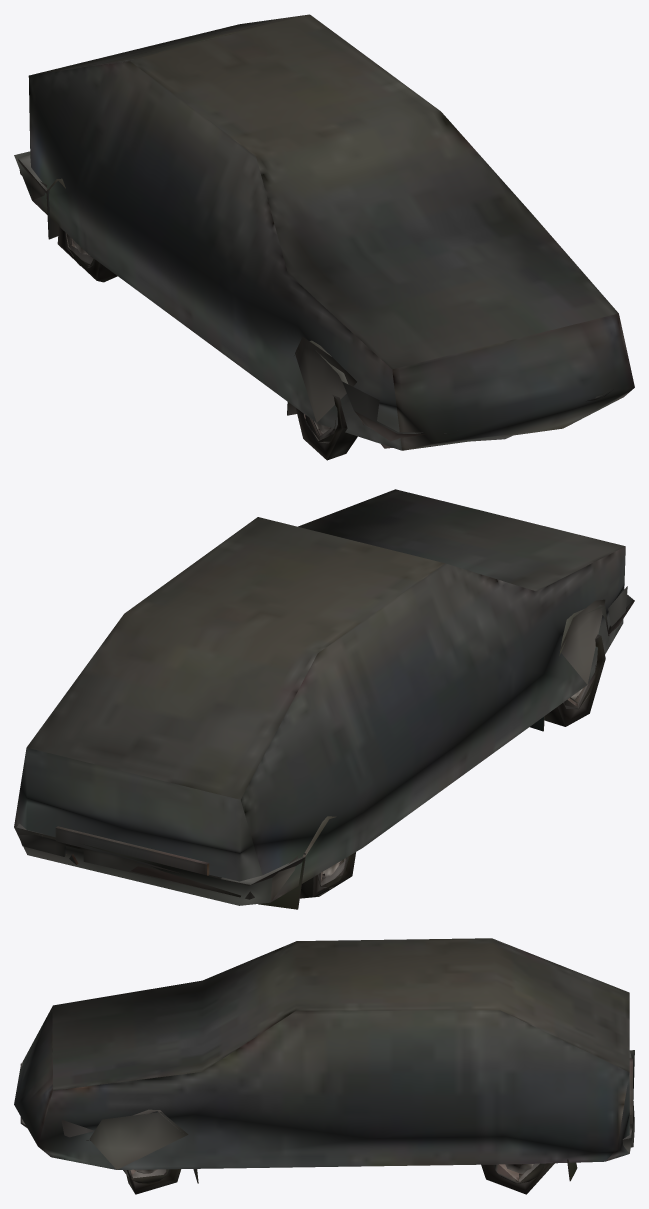
File: covered_car_lod2.glb
The picture shows the model from 3 angles, top to bottom: view 1: azimuth 30°, elevation 25°; view 2: azimuth 150°, elevation 25°; view 3: azimuth 270°, elevation 25°; orthographic projection. The views are drawn at different scales.
Parts seen in each view (by area): view 1: covered_car_wheel_01; view 2: covered_car_wheel_01; view 3: covered_car_wheel_01.
Part boxes in pixels (left/top/right/bottom): covered_car_wheel_01: left=14, top=14, right=634, bottom=460; covered_car_wheel_01: left=14, top=489, right=634, bottom=909; covered_car_wheel_01: left=14, top=938, right=634, bottom=1194.
Size of the model in its own units: 1.77 by 1.35 by 4.3.
1 material, 1 textured.
